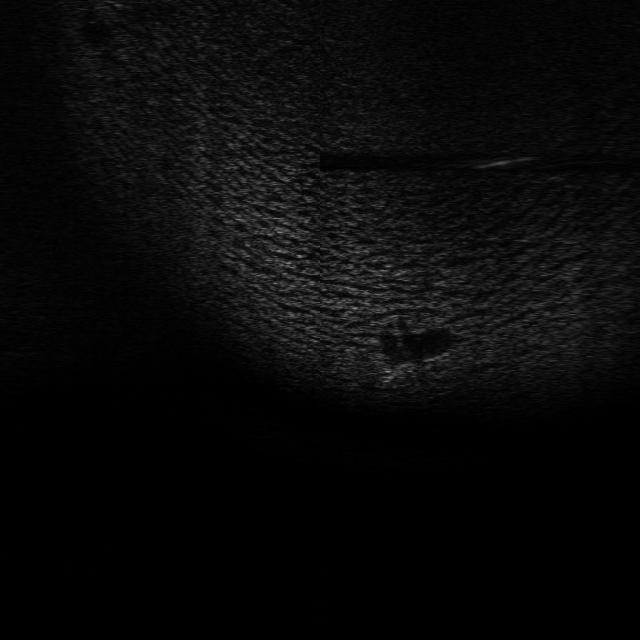plane: (377, 358, 451, 386)
